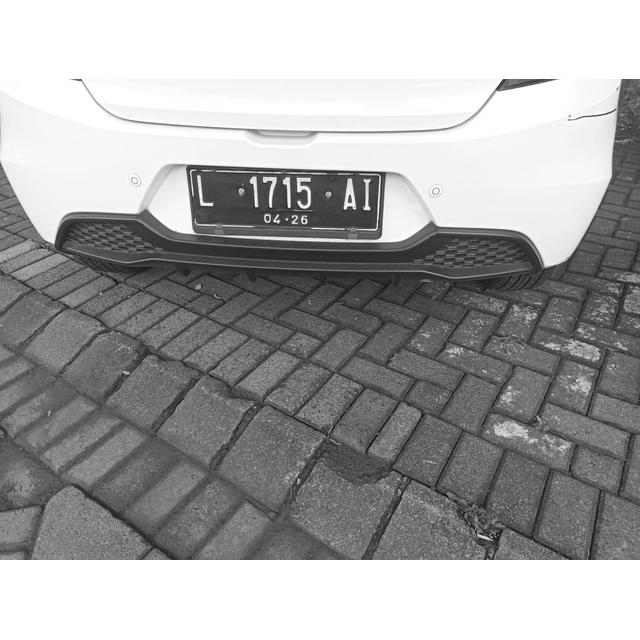license: (194, 173, 376, 229)
